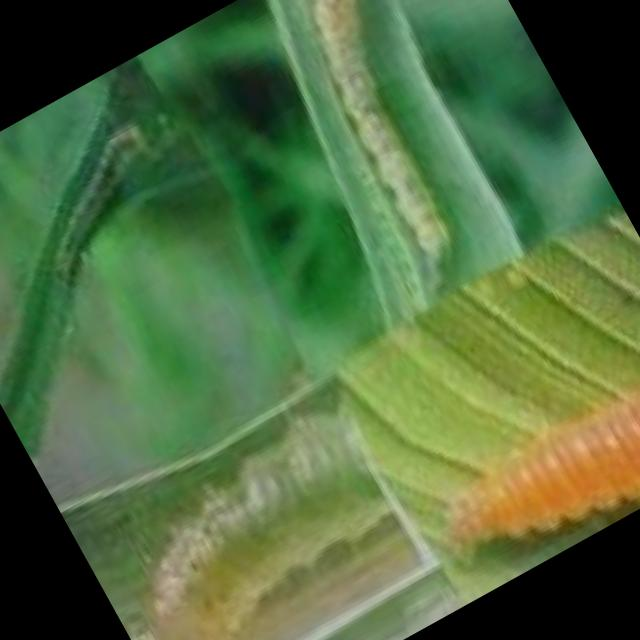leaf-folder: (231, 0, 549, 319), (111, 407, 425, 640), (420, 336, 640, 593), (0, 104, 197, 295)
